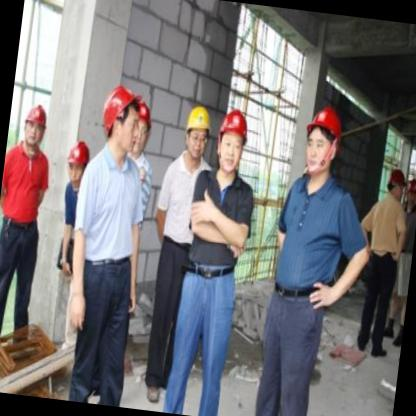helmet: (98, 81, 150, 158), (297, 102, 345, 183), (212, 106, 252, 174), (118, 93, 154, 154), (180, 102, 214, 161), (21, 98, 50, 151), (63, 136, 91, 188), (382, 164, 408, 210), (403, 172, 416, 204)
